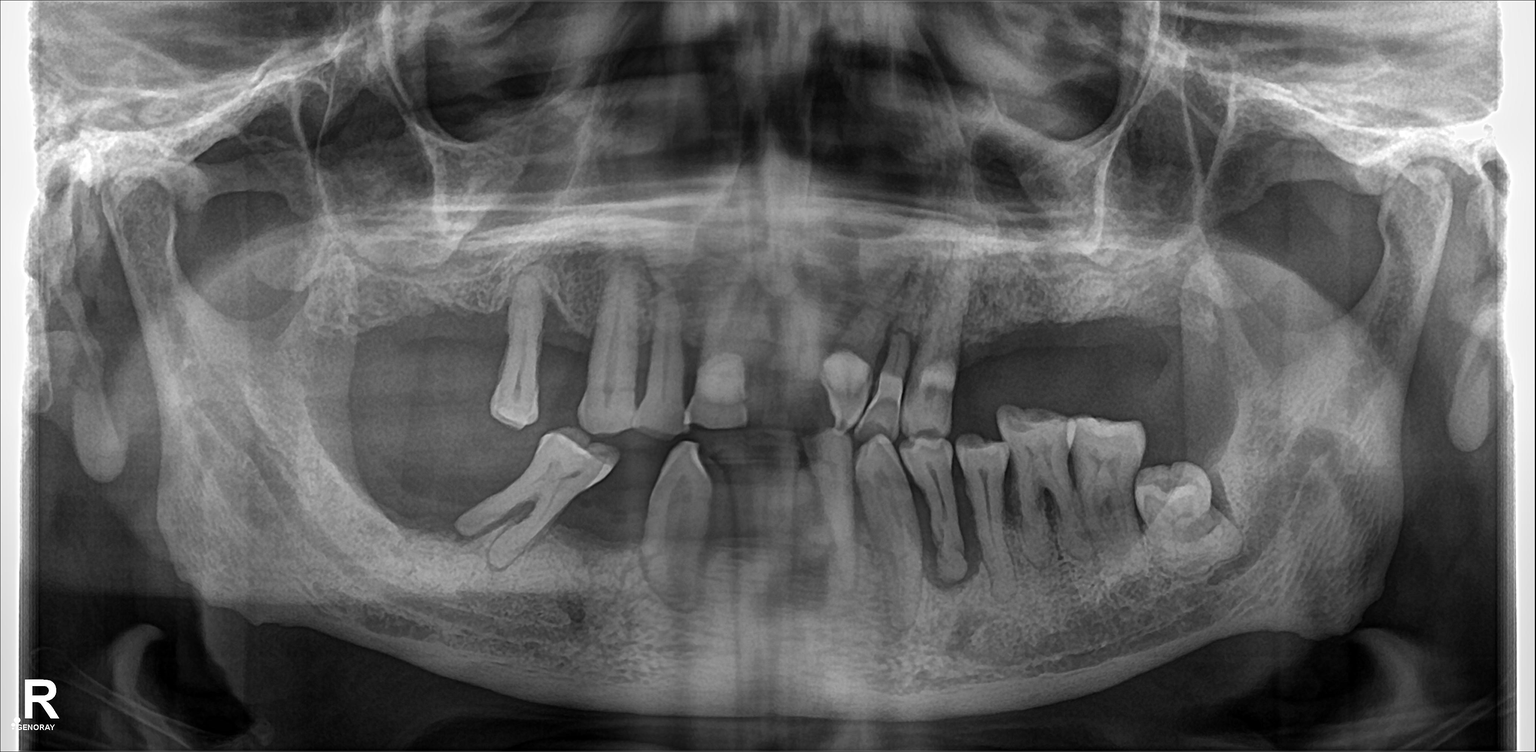Impacted Third Molar: (1140, 475, 1220, 560)
Missing Tooth: (724, 465, 824, 606), (412, 419, 469, 533), (592, 490, 653, 591), (348, 411, 402, 518), (1054, 279, 1111, 378), (395, 266, 441, 378), (1125, 275, 1170, 386), (350, 270, 396, 377), (549, 285, 597, 387), (965, 296, 1009, 387), (451, 277, 487, 372), (1019, 283, 1046, 392)
Periapical Lesion: (908, 484, 995, 590)
